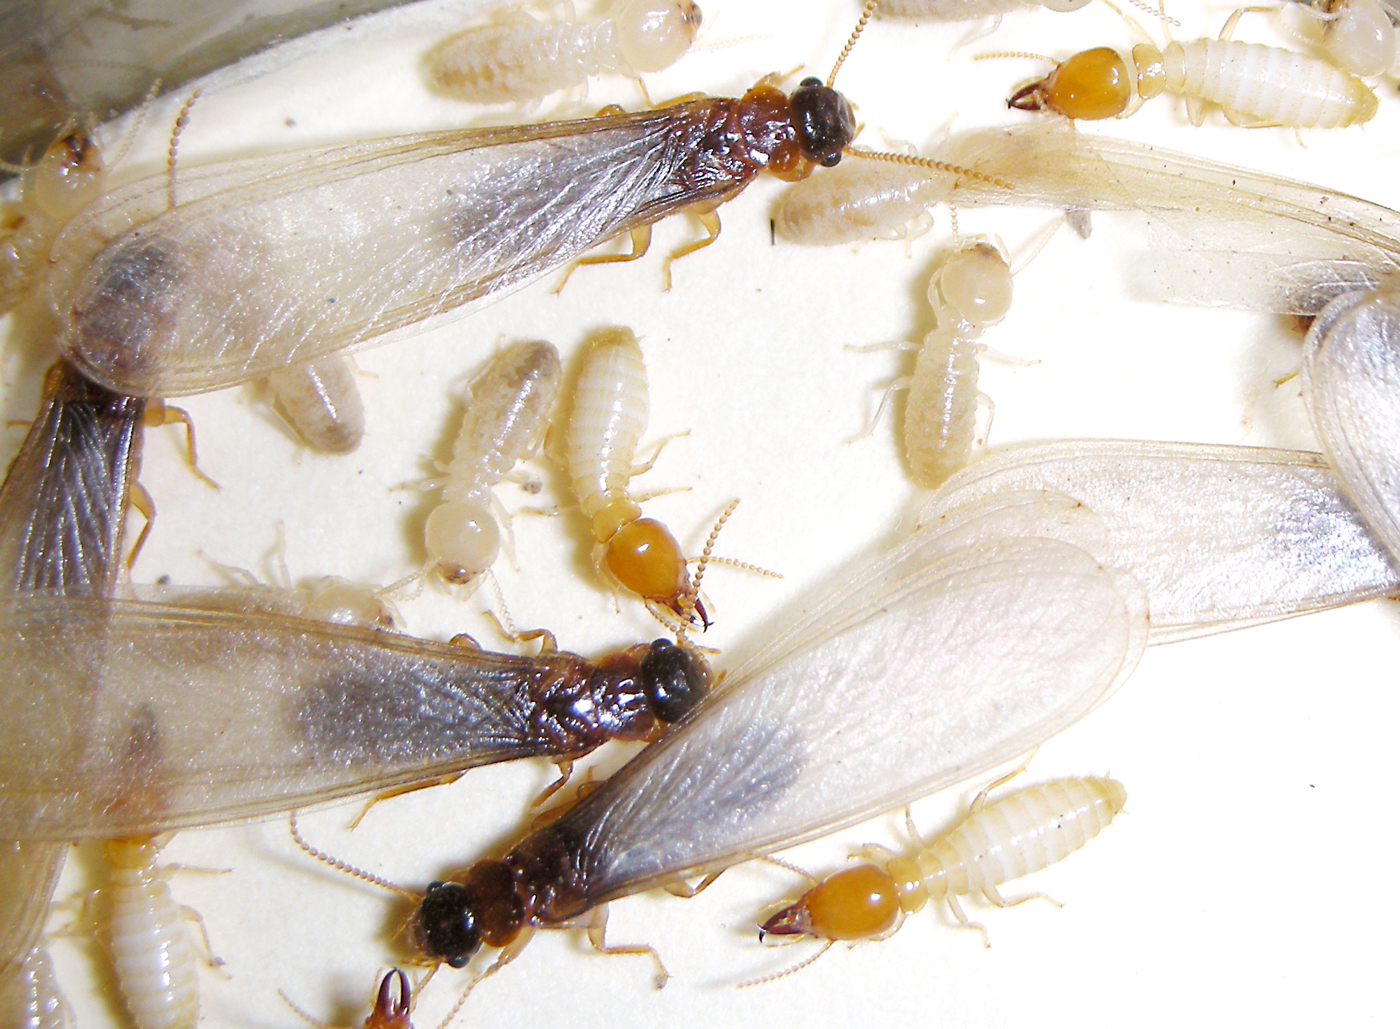flying termite: (60, 14, 873, 416), (8, 577, 721, 828)
